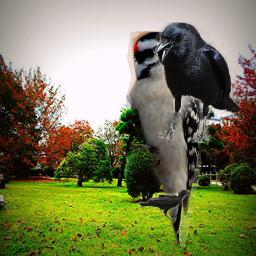Crow: (154, 22, 240, 143), (138, 189, 191, 219)
Woodpecker: (124, 31, 201, 247)
